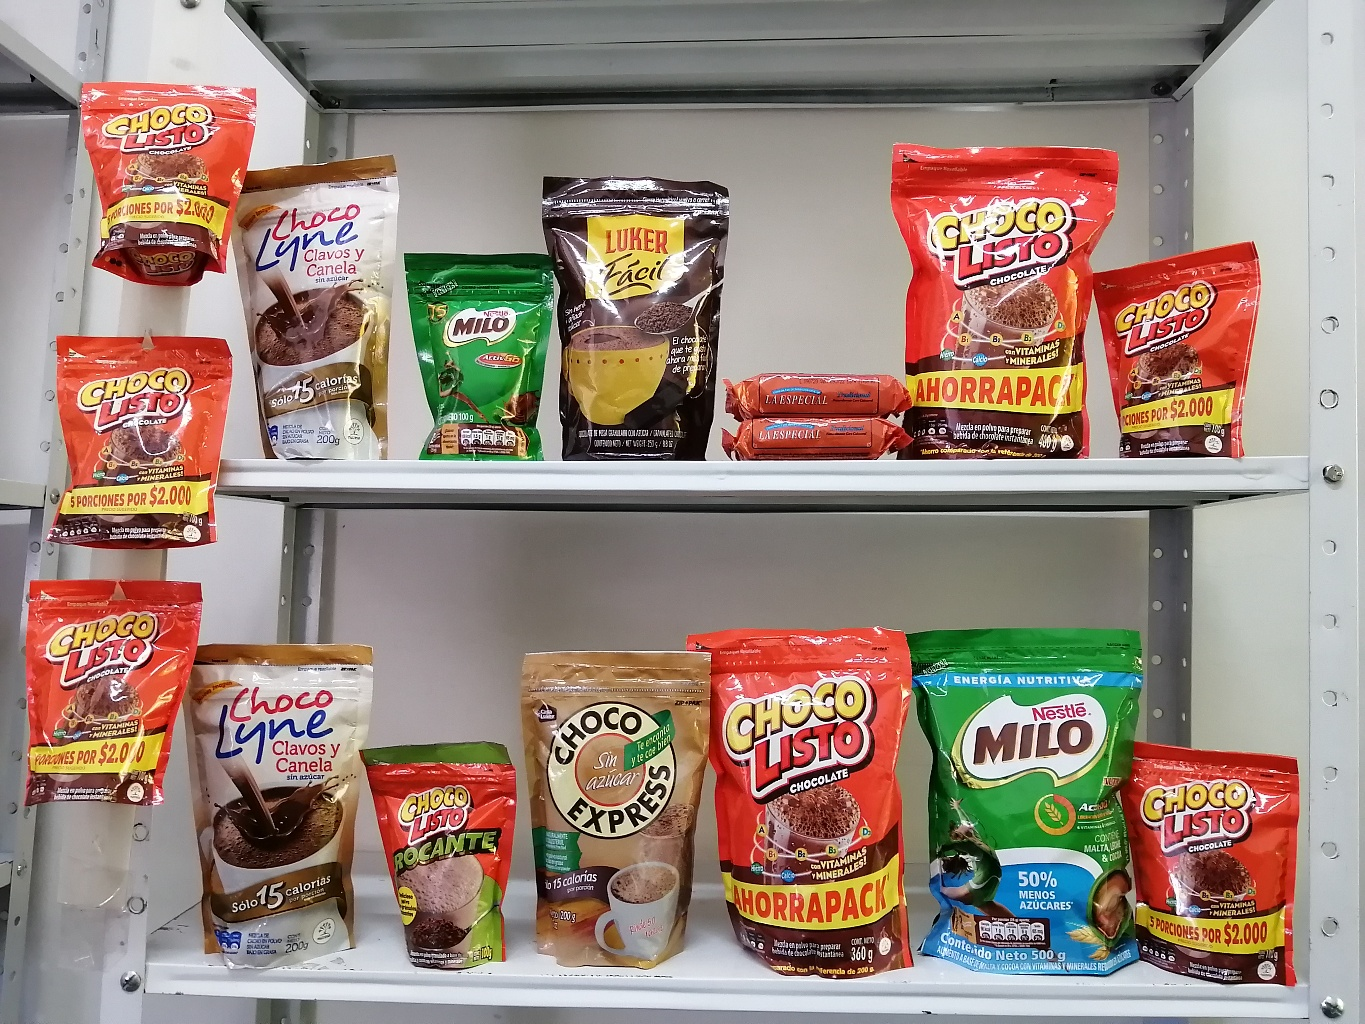COL0170102DYP10000: (357, 741, 517, 967)
COL0170103DYP10000: (72, 77, 267, 286)
COL0170103DYP36000: (687, 627, 916, 979)
COL0170103DYP40000: (893, 140, 1123, 458)
COL0170203DYP10000: (406, 250, 555, 468)
COL0170205DYP50000: (907, 626, 1144, 977)
